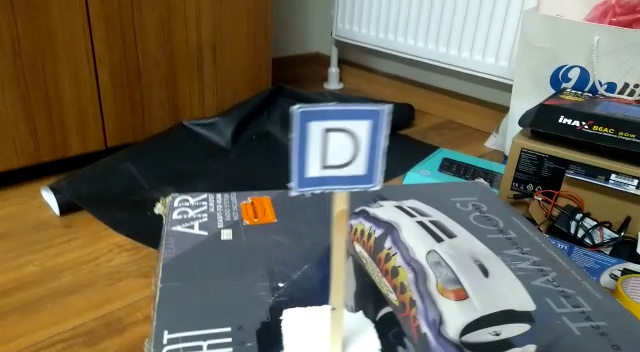durak: (294, 110, 389, 191)
